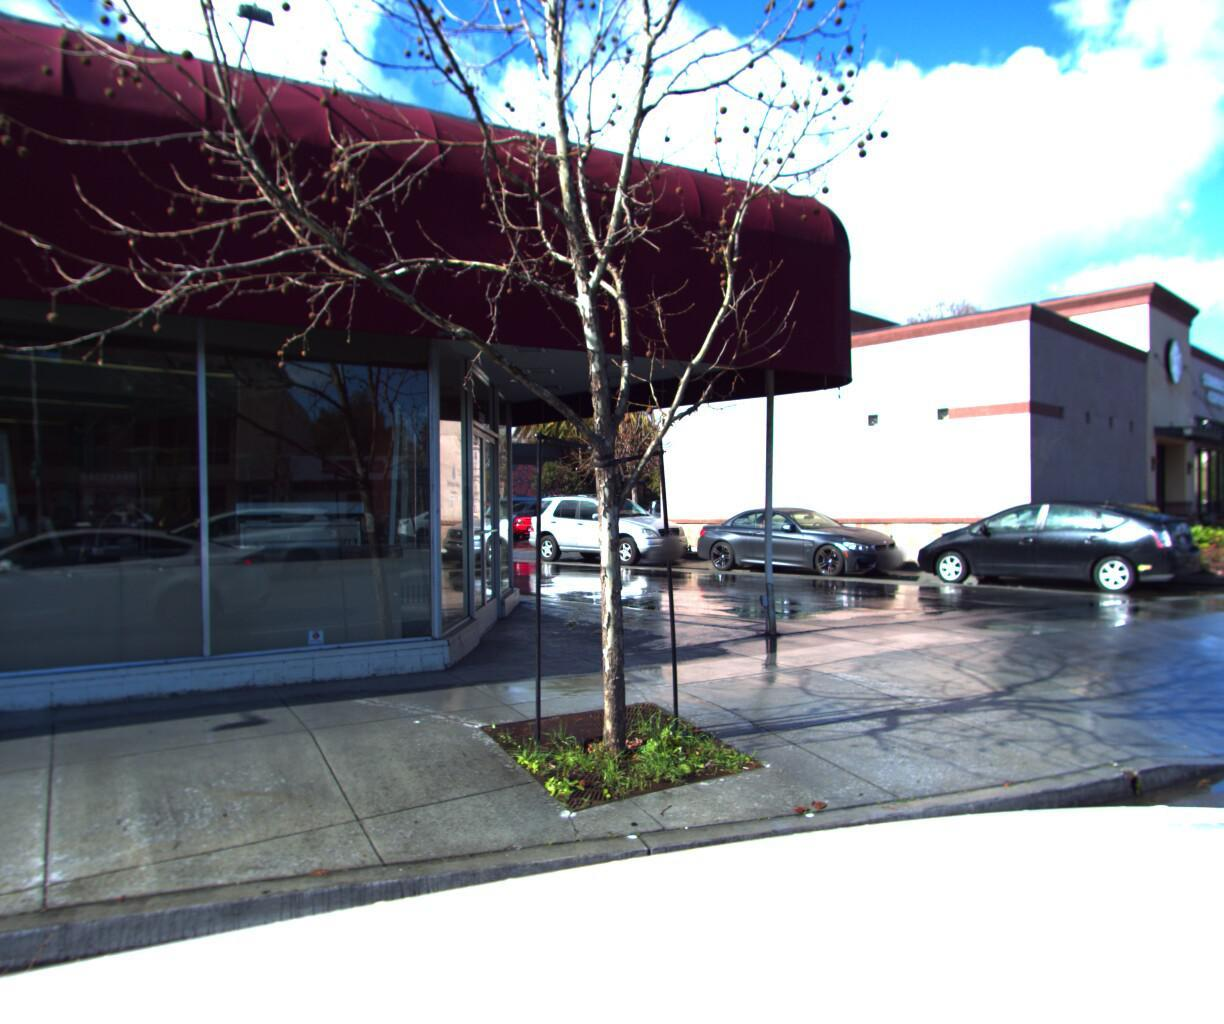car: (910, 496, 1211, 602), (682, 501, 920, 587)
